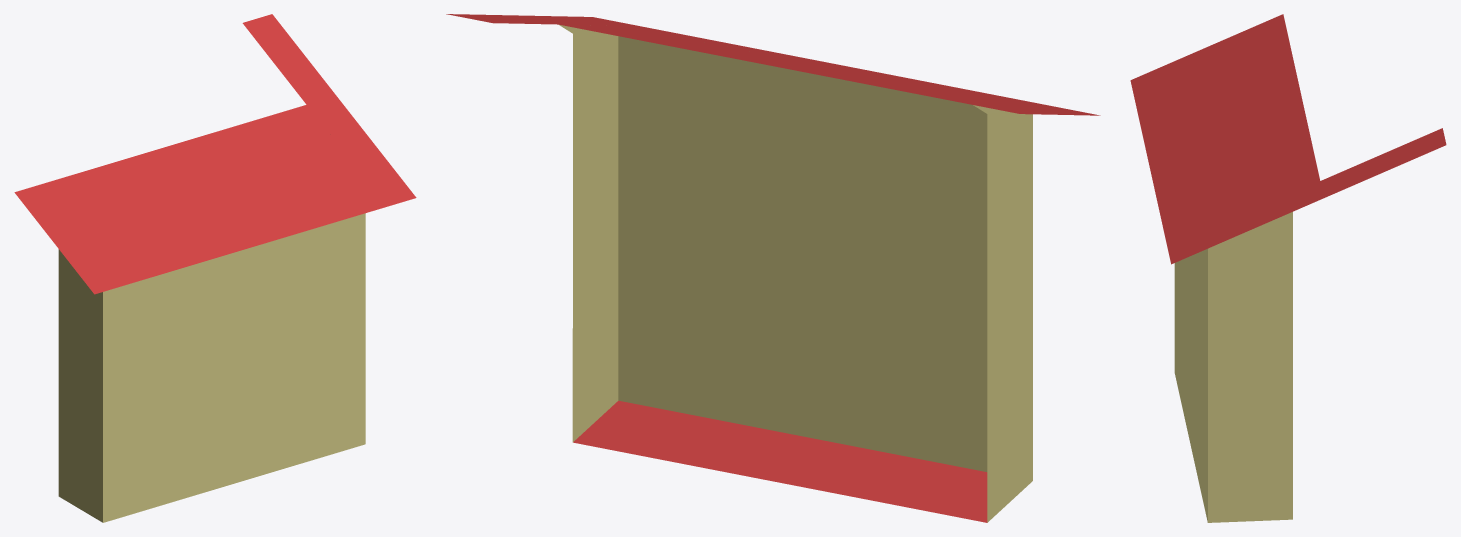
The picture shows the model from 3 angles, left to right: view 1: azimuth 30°, elevation 25°; view 2: azimuth 150°, elevation 25°; view 3: azimuth 270°, elevation 25°; orthographic projection. The views are drawn at different scales.
Size of the model in its own units: 8.32 by 5.84 by 7.86.
